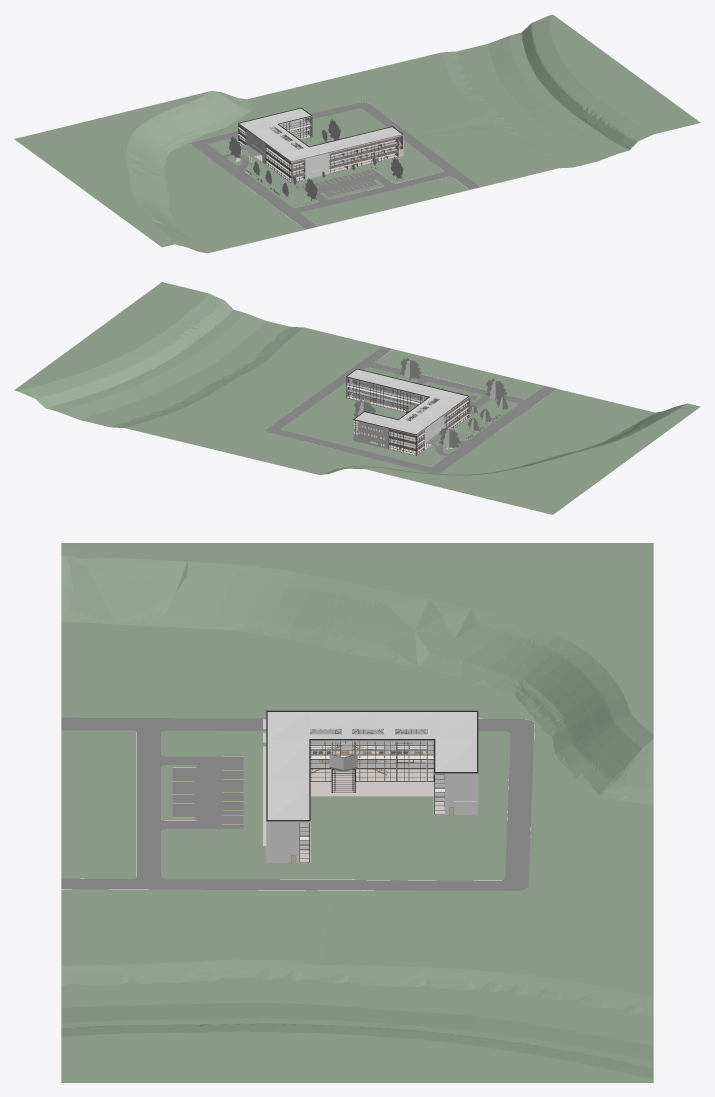
The picture shows the model from 3 angles, top to bottom: view 1: azimuth 30°, elevation 25°; view 2: azimuth 150°, elevation 25°; view 3: azimuth 270°, elevation 25°; orthographic projection. The views are drawn at different scales.
Parts seen in each view (by area): view 1: 2NrIHoxdPB5g_GNSgRhSv9, 3uEeO6DW5BHO99KjdEfotJ, 1fIVuvFffDJRV_SJESOt8W, 2UMN_OQKrAshZl3dHPulJq, 1fIVuvFffDJRV_SJESOtCD, 1fIVuvFffDJRV_SJESOtCZ, 3a58fQxqD2numVo$eTOgS$; view 2: 2NrIHoxdPB5g_GNSgRhSv9, 3uEeO6DW5BHO99KjdEfotJ, 1fIVuvFffDJRV_SJESOt8W, 1fIVuvFffDJRV_SJESOtDf, 1fIVuvFffDJRV_SJESOtCD, 1fIVuvFffDJRV_SJESOtCZ, 3a58fQxqD2numVo$eTOgS$; view 3: 2NrIHoxdPB5g_GNSgRhSv9, 3uEeO6DW5BHO99KjdEfotJ, 1fIVuvFffDJRV_SJESOt8W, 3a58fQxqD2numVo$eTOgS$, 1fIVuvFffDJRV_SJESOtCD, 2UMN_OQKrAshZl3dHPujq_, 1fIVuvFffDJRV_SJESOtDs, 2UbFLyEvP7xerhn6sJH67p, 1fIVuvFffDJRV_SJESOtCZ.
Part boxes in pixels (x1=…): 2NrIHoxdPB5g_GNSgRhSv9: x1=14, y1=14, x2=700, y2=253; 3uEeO6DW5BHO99KjdEfotJ: x1=191, y1=102, x2=479, y2=229; 1fIVuvFffDJRV_SJESOt8W: x1=239, y1=108, x2=401, y2=161; 2UMN_OQKrAshZl3dHPulJq: x1=305, y1=154, x2=329, y2=179; 1fIVuvFffDJRV_SJESOtCD: x1=239, y1=119, x2=397, y2=169; 1fIVuvFffDJRV_SJESOtCZ: x1=239, y1=127, x2=397, y2=175; 3a58fQxqD2numVo$eTOgS$: x1=239, y1=133, x2=397, y2=182; 2NrIHoxdPB5g_GNSgRhSv9: x1=14, y1=282, x2=700, y2=514; 3uEeO6DW5BHO99KjdEfotJ: x1=265, y1=346, x2=556, y2=473; 1fIVuvFffDJRV_SJESOt8W: x1=347, y1=369, x2=467, y2=434; 1fIVuvFffDJRV_SJESOtDf: x1=353, y1=420, x2=388, y2=448; 1fIVuvFffDJRV_SJESOtCD: x1=347, y1=380, x2=468, y2=441; 1fIVuvFffDJRV_SJESOtCZ: x1=347, y1=388, x2=468, y2=448; 3a58fQxqD2numVo$eTOgS$: x1=346, y1=393, x2=468, y2=455; 2NrIHoxdPB5g_GNSgRhSv9: x1=61, y1=543, x2=653, y2=1082; 3uEeO6DW5BHO99KjdEfotJ: x1=61, y1=717, x2=534, y2=890; 1fIVuvFffDJRV_SJESOt8W: x1=267, y1=712, x2=476, y2=819; 3a58fQxqD2numVo$eTOgS$: x1=276, y1=760, x2=455, y2=863; 1fIVuvFffDJRV_SJESOtCD: x1=300, y1=733, x2=444, y2=836; 2UMN_OQKrAshZl3dHPujq_: x1=310, y1=782, x2=434, y2=796; 1fIVuvFffDJRV_SJESOtDs: x1=266, y1=823, x2=299, y2=863; 2UbFLyEvP7xerhn6sJH67p: x1=445, y1=774, x2=476, y2=814; 1fIVuvFffDJRV_SJESOtCZ: x1=300, y1=758, x2=444, y2=850.
Size of what is drawn, in the model's own units: 319 by 14.31 by 152.
